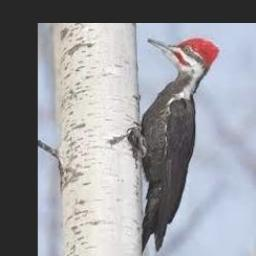Woodpecker: (131, 38, 219, 255)
